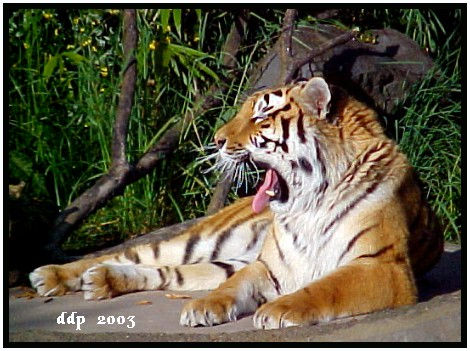Tigre: (179, 68, 435, 320)
